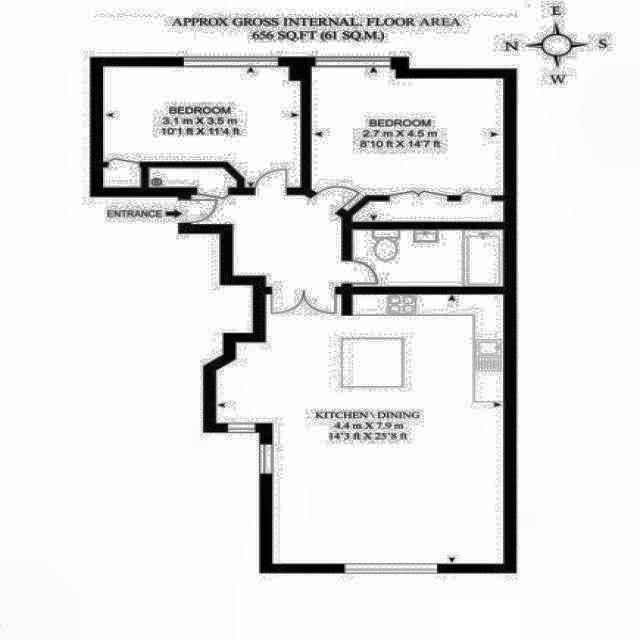room: (215, 294, 505, 565), (310, 66, 504, 222), (102, 66, 302, 188), (191, 195, 342, 287), (352, 229, 504, 286), (149, 167, 237, 188)
